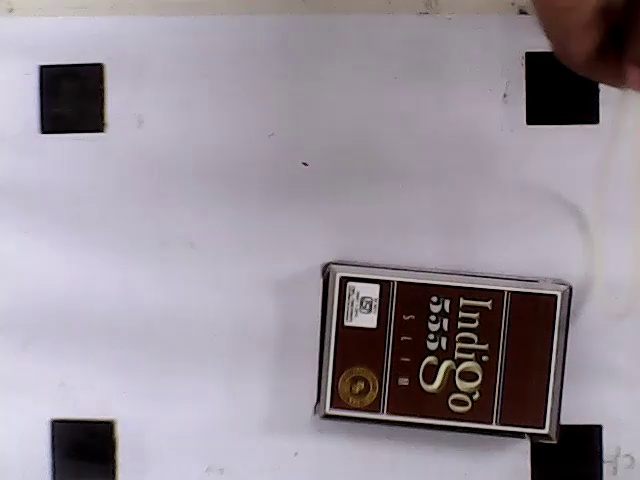BEX: (327, 275, 559, 432)
